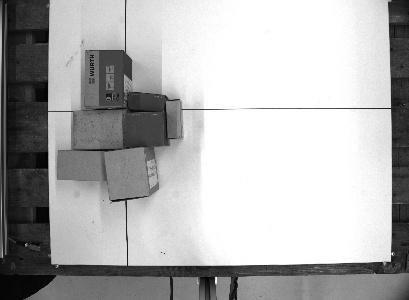b1: (165, 98, 182, 140)
b2: (55, 149, 105, 181)
b3: (126, 90, 165, 110)
b4: (81, 47, 133, 108)
b5: (104, 147, 160, 202)
b6: (70, 108, 124, 149)
b7: (123, 110, 168, 148)
